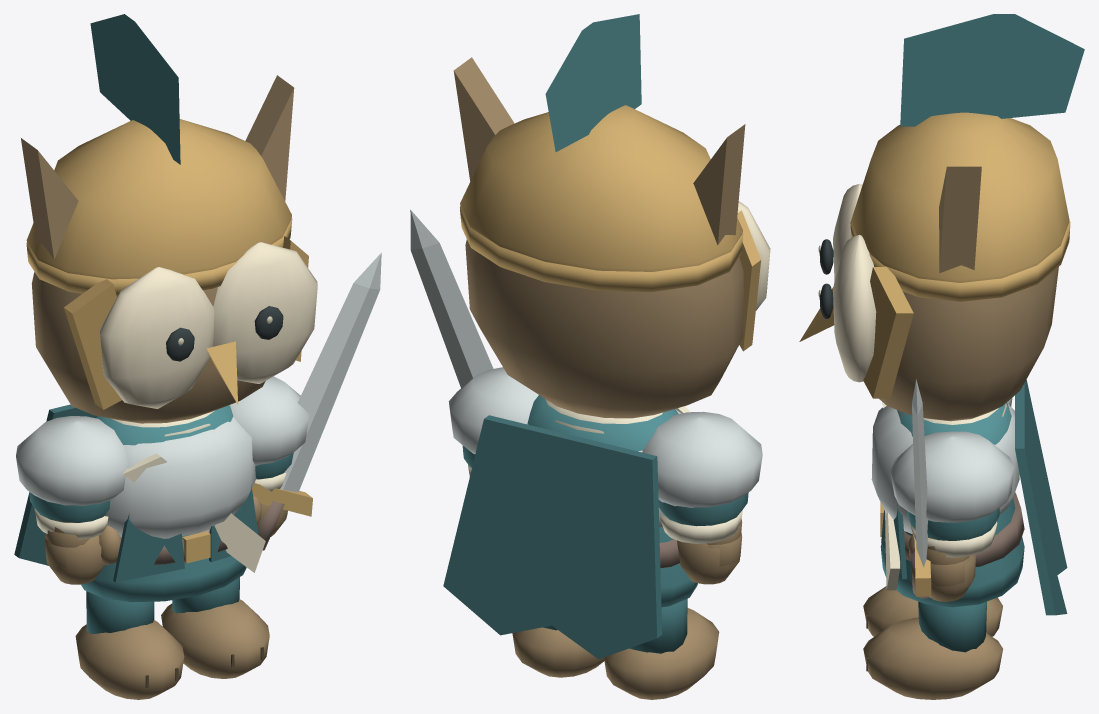
The model's file is knight.glb.
3 views of the same model, side by side, from view 1: azimuth 30°, elevation 25°; view 2: azimuth 150°, elevation 25°; view 3: azimuth 270°, elevation 25° (orthographic). The views are drawn at different scales.
Parts seen in each view (by area): view 1: Regional helmet, Rounded breastplate, Owl face disk, Owl face disk.001, Animal cheek head, Big shoulder armour, Greek crest, Soft animal paw, Shaped bevel sword, Short folded tunic, Soft animal paw.001, Big shoulder armour.001 (+20 smaller); view 2: Short scalloped cape, Regional helmet, Animal cheek head, Big shoulder armour, Greek crest, Helmet brow band, Soft animal paw, Shaped bevel sword, Short folded tunic, Big shoulder armour.001, Owl feather tuft.001, Owl feather tuft (+8 smaller); view 3: Regional helmet, Animal cheek head, Greek crest, Big shoulder armour.001, Soft animal paw.001, Short scalloped cape, Owl face disk.001, Short folded tunic, Corinthian cheek.001, Owl feather tuft.001, Rounded breastplate, Helmet brow band (+13 smaller).
Boxes of the visible parts, box(x1,y1,x2,y2) form: Regional helmet: box(26, 119, 291, 279); Rounded breastplate: box(104, 417, 256, 538); Owl face disk: box(99, 267, 214, 408); Owl face disk.001: box(213, 242, 317, 383); Animal cheek head: box(31, 272, 265, 423); Big shoulder armour: box(16, 416, 127, 505); Greek crest: box(90, 14, 180, 164); Soft animal paw: box(75, 620, 184, 699); Shaped bevel sword: box(280, 252, 381, 492); Short folded tunic: box(81, 405, 246, 602); Soft animal paw.001: box(161, 599, 269, 678); Big shoulder armour.001: box(229, 376, 309, 465); Short scalloped cape: box(443, 415, 662, 659); Regional helmet: box(460, 105, 742, 271); Animal cheek head: box(465, 239, 743, 418); Big shoulder armour: box(642, 411, 762, 507); Greek crest: box(545, 14, 641, 151); Helmet brow band: box(460, 206, 743, 291); Soft animal paw: box(604, 608, 719, 699); Shaped bevel sword: box(410, 209, 493, 387); Short folded tunic: box(527, 395, 697, 607); Big shoulder armour.001: box(448, 367, 538, 454); Owl feather tuft.001: box(453, 57, 514, 181); Owl feather tuft: box(693, 124, 745, 245); Regional helmet: box(851, 112, 1069, 282); Animal cheek head: box(879, 267, 1058, 421); Greek crest: box(900, 14, 1084, 126); Big shoulder armour.001: box(890, 431, 1014, 522); Soft animal paw.001: box(863, 617, 1002, 699); Short scalloped cape: box(1015, 379, 1067, 615); Owl face disk.001: box(833, 235, 876, 382); Short folded tunic: box(880, 402, 1024, 607); Corinthian cheek.001: box(863, 267, 913, 398); Owl feather tuft.001: box(939, 166, 981, 273); Rounded breastplate: box(871, 404, 1019, 533); Helmet brow band: box(850, 220, 1070, 301).
Size of the model in its own units: 1.04 by 1.86 by 0.735.
